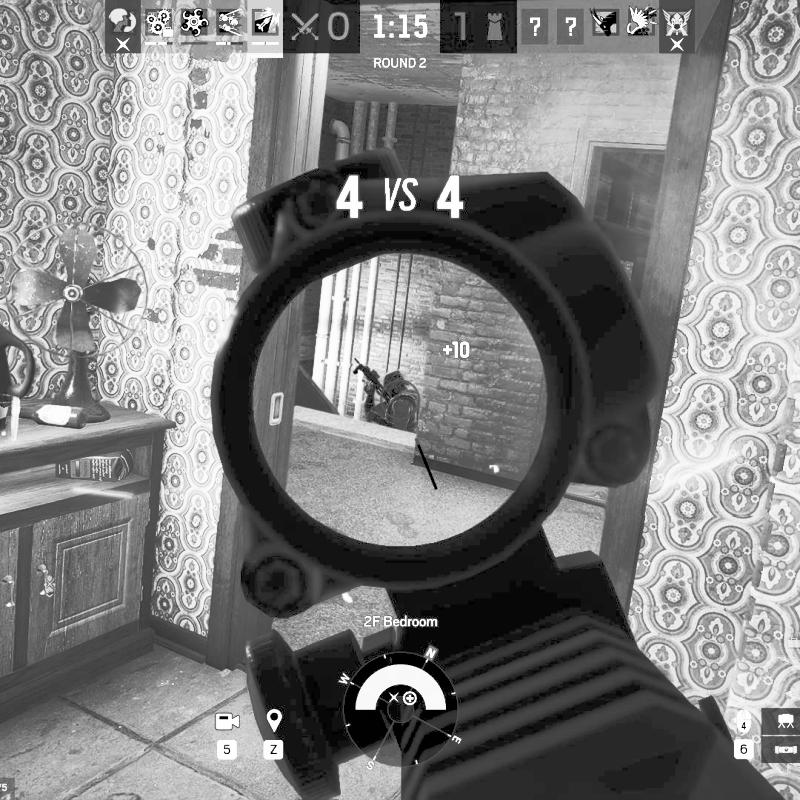Character: (352, 356, 420, 434)
Head: (383, 369, 407, 398)
